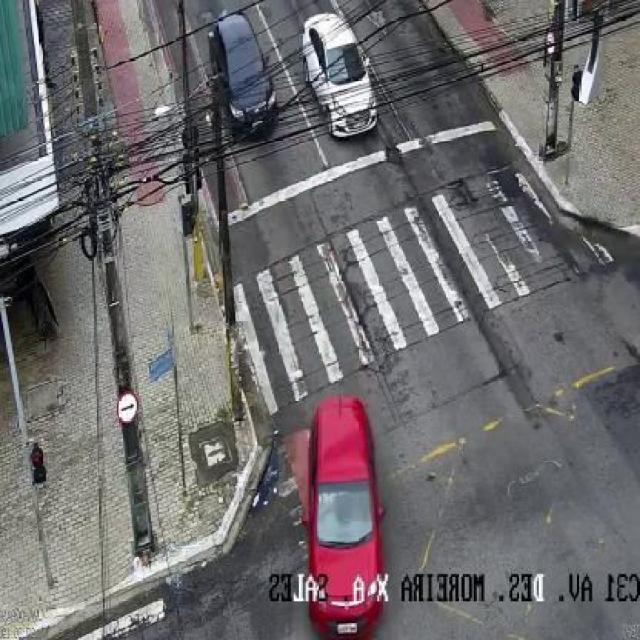car: (302, 14, 378, 138), (216, 14, 276, 122)
road-signs: (270, 395, 389, 640), (149, 348, 172, 382), (118, 391, 138, 424)
traffic-lights: (30, 442, 46, 484)
